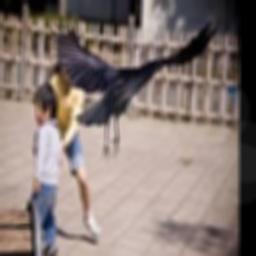Crow: (48, 9, 214, 159)
